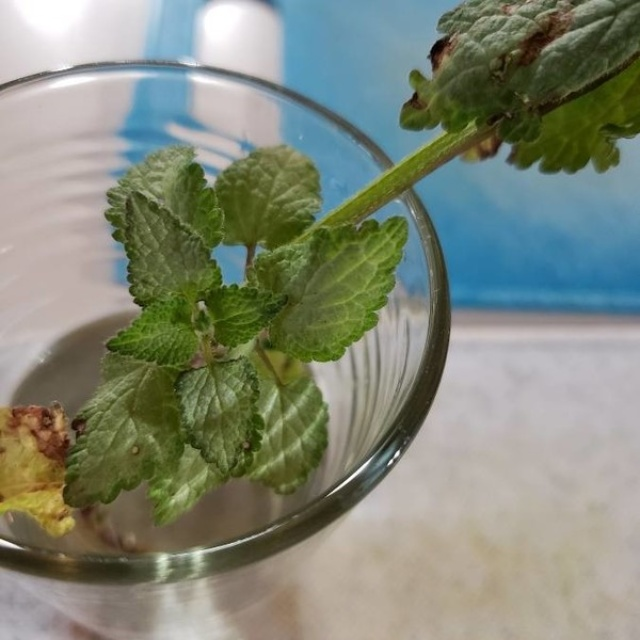obstacle: (83, 23, 415, 493)
